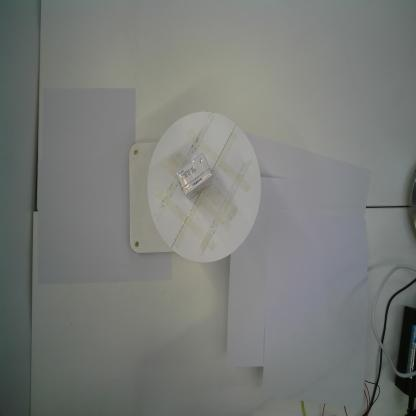Milk: (175, 152, 213, 198)
